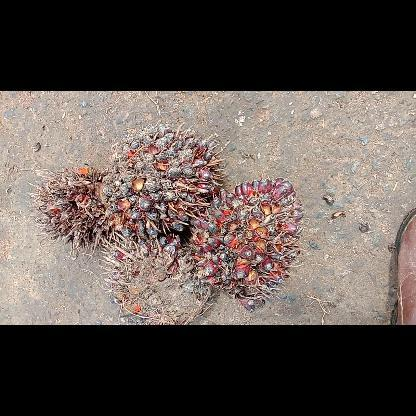TBS abnormal: (190, 178, 304, 312), (103, 120, 225, 238), (102, 234, 212, 324), (29, 166, 115, 258)
